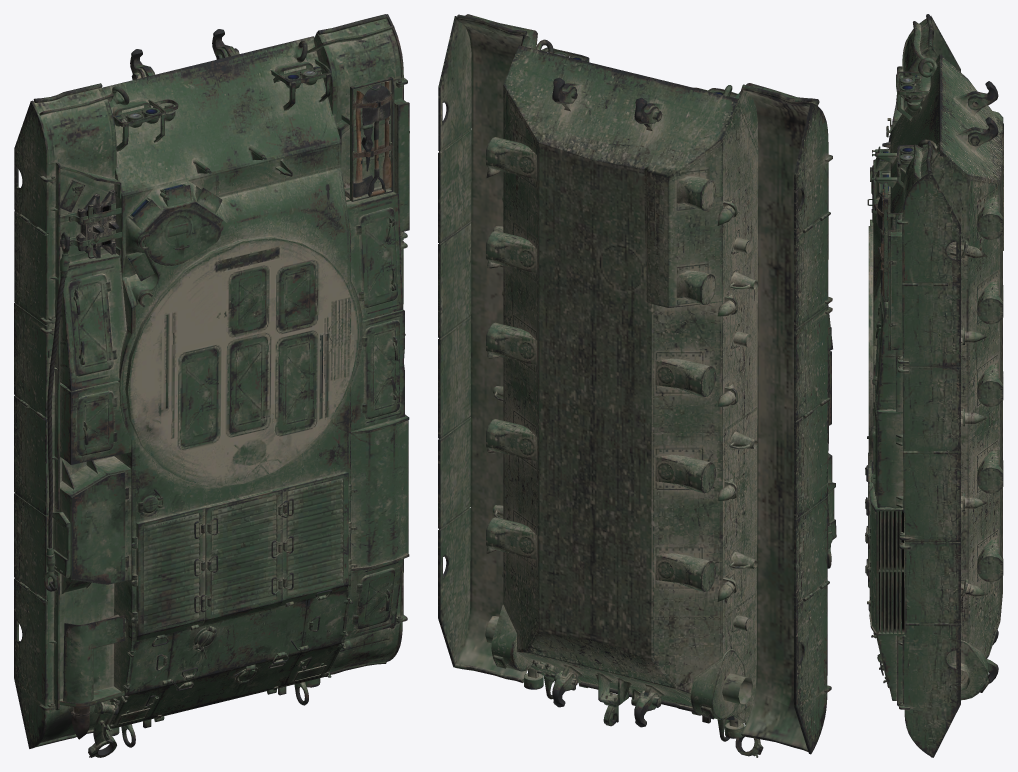
File: Hull.glb
The picture shows the model from 3 angles, left to right: view 1: azimuth 30°, elevation 25°; view 2: azimuth 150°, elevation 25°; view 3: azimuth 270°, elevation 25°; orthographic projection. The views are drawn at different scales.
Parts seen in each view (by area): view 1: set_0_group_0; view 2: set_0_group_0; view 3: set_0_group_0.
Part boxes in pixels (bbox=[...]): set_0_group_0: bbox=[14, 14, 409, 757]; set_0_group_0: bbox=[438, 14, 836, 757]; set_0_group_0: bbox=[865, 14, 1003, 757].
Size of the model in its own units: 3.28 by 5.81 by 1.2.
1 material, 1 textured.
